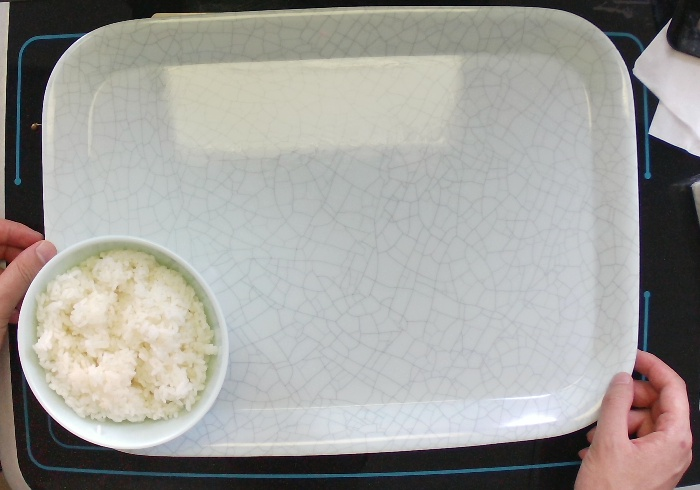JYsf-Fan_Wan: (14, 231, 231, 451)
